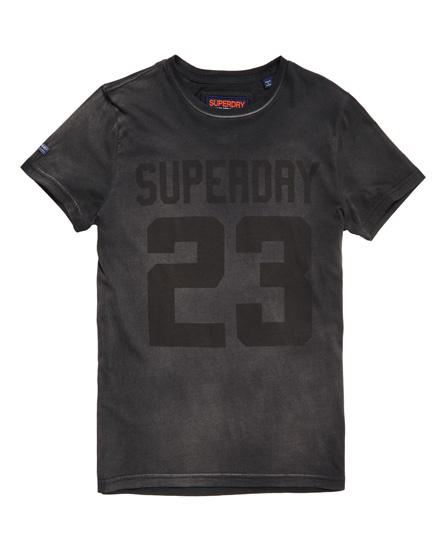teeshirt: (17, 47, 422, 518)
